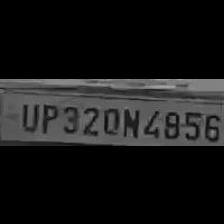2: (78, 102, 100, 134)
3: (58, 100, 80, 134)
4: (140, 105, 162, 138)
5: (180, 106, 200, 140)
6: (200, 110, 222, 142)
8: (160, 106, 180, 140)
N: (119, 104, 138, 138)
P: (37, 100, 57, 132)
Q: (100, 103, 120, 135)
U: (16, 98, 38, 132)
